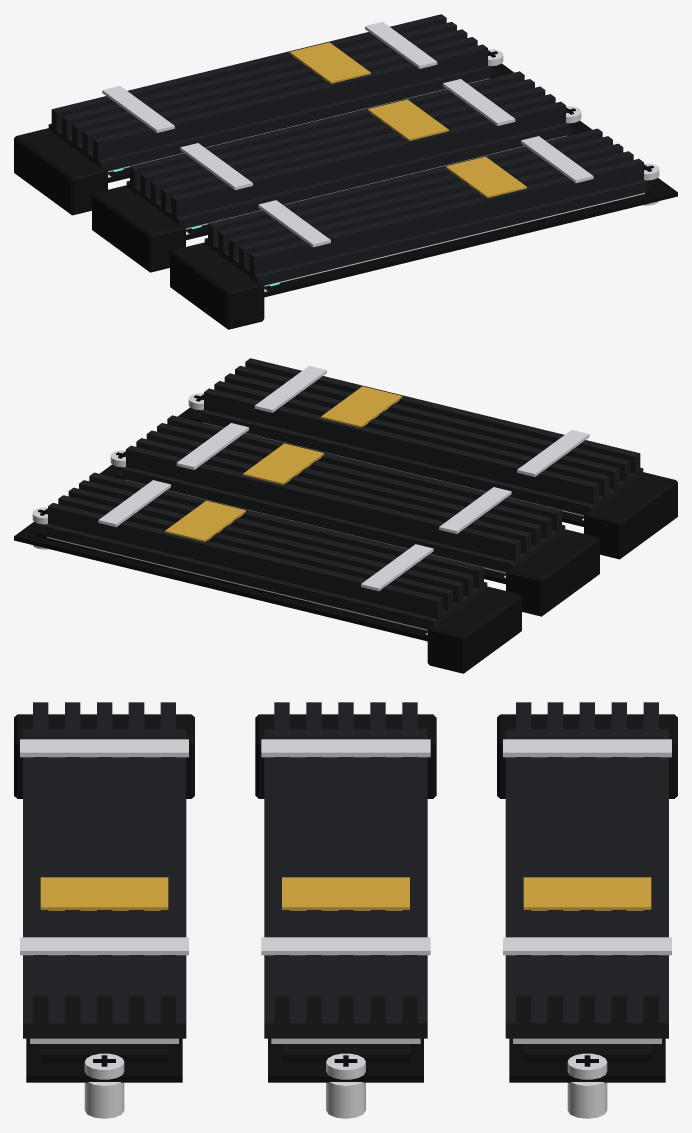
The model's file is hwm_sto_nvme4_30tb.glb.
3 renders of one model, top to bottom at view 1: azimuth 30°, elevation 25°; view 2: azimuth 150°, elevation 25°; view 3: azimuth 270°, elevation 25°, orthographic. The views are drawn at different scales.
Parts seen in each view (by area): view 1: SSD_2, SSD_0, SSD_1, Slots; view 2: SSD_0, SSD_2, SSD_1, Slots; view 3: SSD_0, SSD_2, SSD_1, Slots, Screw_0, Screw_2, Screw_1.
Boxes of the visible parts, bbox=[...] form: SSD_2: bbox=[204, 128, 677, 297]; SSD_0: bbox=[48, 14, 513, 182]; SSD_1: bbox=[126, 71, 591, 240]; Slots: bbox=[14, 63, 658, 329]; SSD_0: bbox=[14, 472, 487, 641]; SSD_2: bbox=[178, 358, 643, 526]; SSD_1: bbox=[100, 415, 565, 584]; Slots: bbox=[33, 407, 677, 673]; SSD_0: bbox=[503, 702, 671, 1082]; SSD_2: bbox=[20, 702, 188, 1082]; SSD_1: bbox=[261, 702, 430, 1082]; Slots: bbox=[14, 714, 677, 1118]; Screw_0: bbox=[567, 1053, 607, 1079]; Screw_2: bbox=[84, 1053, 124, 1079]; Screw_1: bbox=[326, 1053, 365, 1079].
Size of the model in its own units: 0.1155 by 0.0154 by 0.0935.
